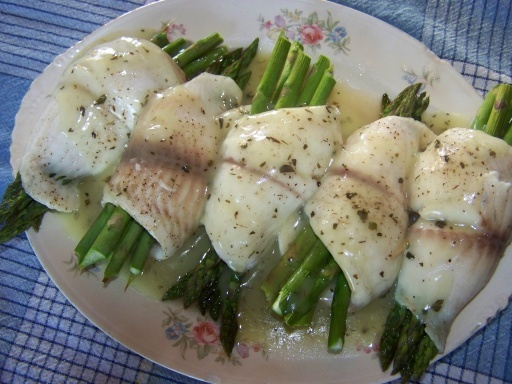background: (0, 17, 410, 230)
